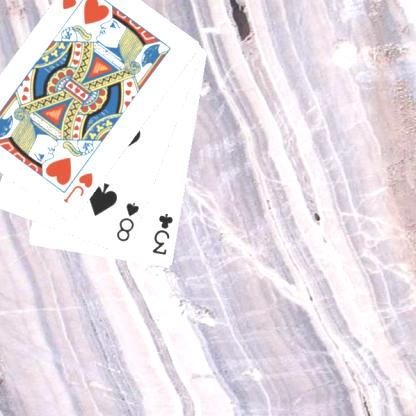3C: (150, 210, 174, 256)
8S: (113, 199, 141, 244)
JH: (60, 170, 95, 204), (59, 0, 93, 12)
